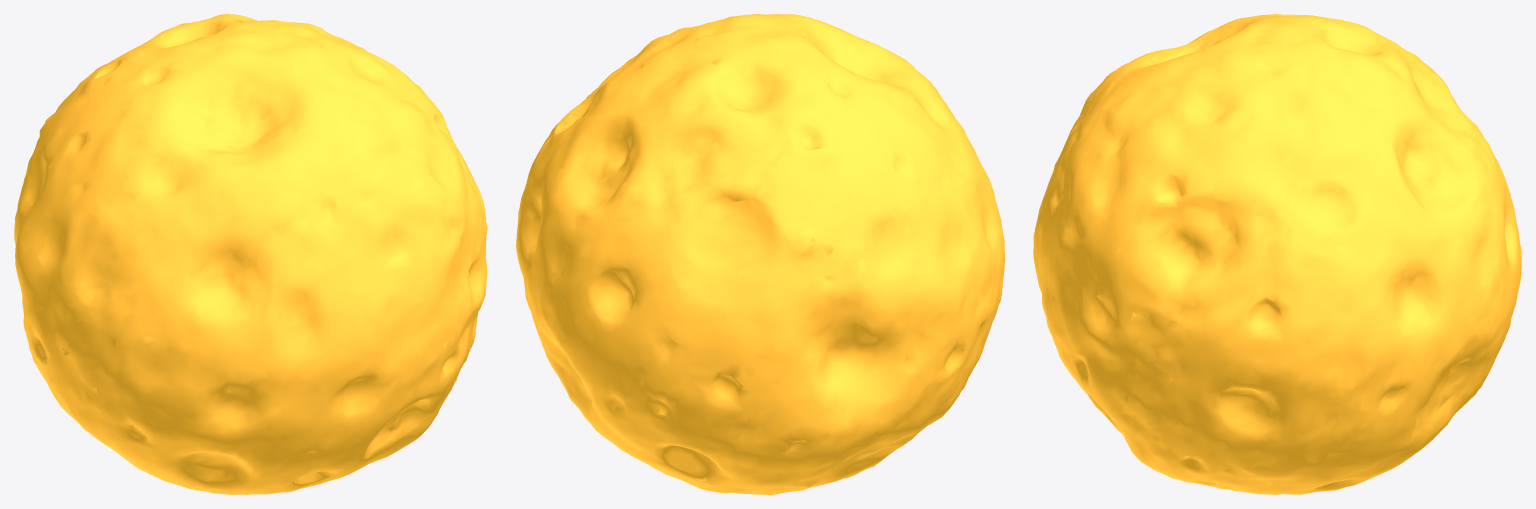
File: meteor.fbx
3 views of the same model, side by side, from view 1: azimuth 30°, elevation 25°; view 2: azimuth 150°, elevation 25°; view 3: azimuth 270°, elevation 25° (orthographic).
Visible parts, largest first — view 1: Icosphere; view 2: Icosphere; view 3: Icosphere.
Boxes of the visible parts, x1=… form: Icosphere: x1=14, y1=14, x2=487, y2=494; Icosphere: x1=516, y1=14, x2=1004, y2=494; Icosphere: x1=1033, y1=14, x2=1521, y2=494.
Size of the model in its own units: 209 by 206 by 207.
